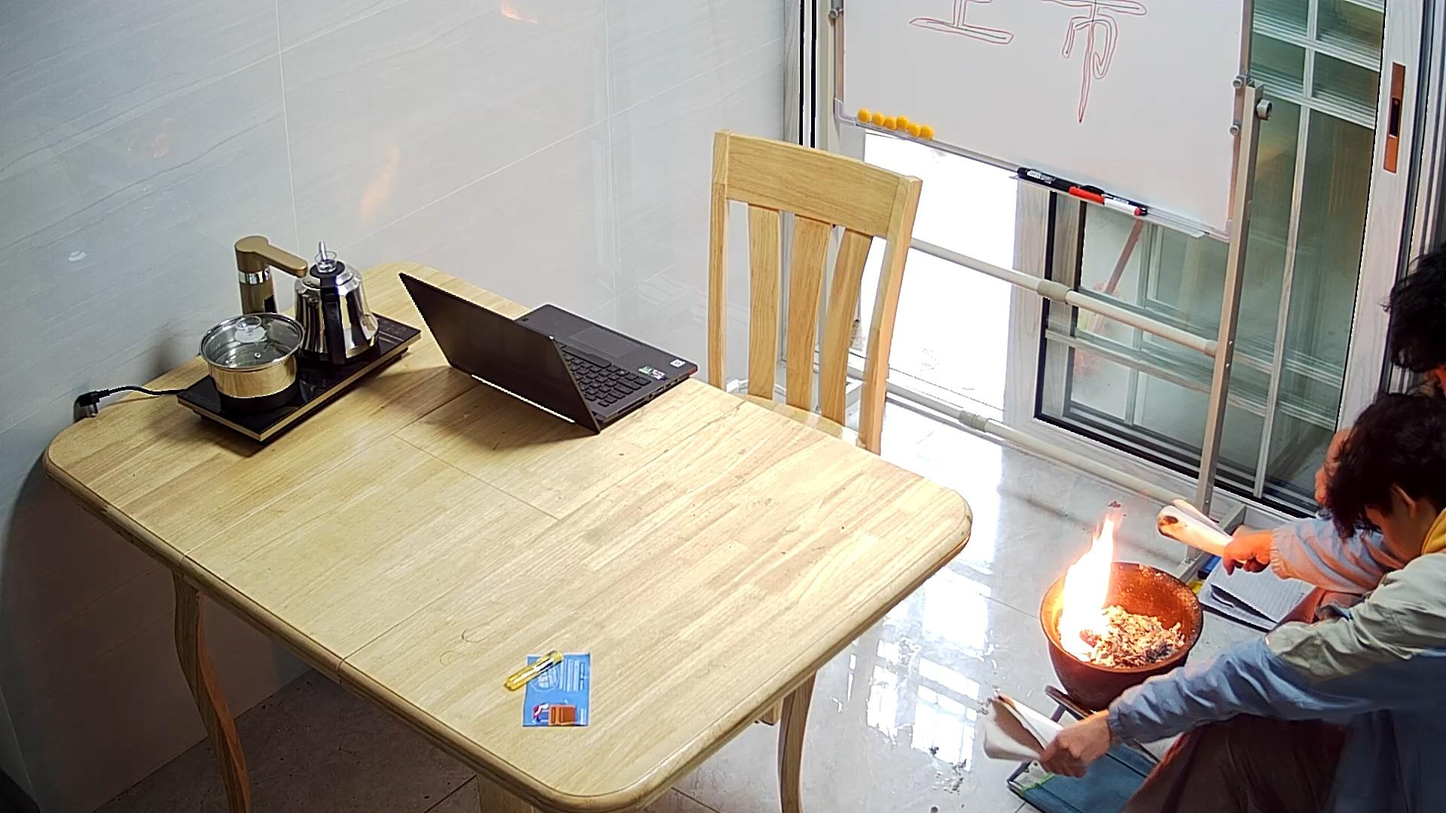fire: (1060, 507, 1123, 659)
